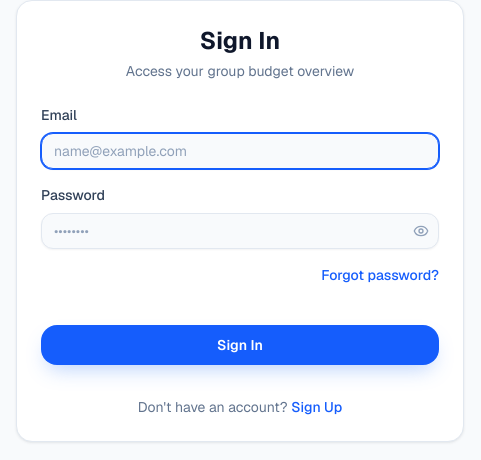
Scenario: LoginForm › keeps showing the signing-in state through a successful redirect instead of reverting to Sign In
In the field labelled "Email": (240, 151) [41, 133, 439, 169], type "demo@example.com"
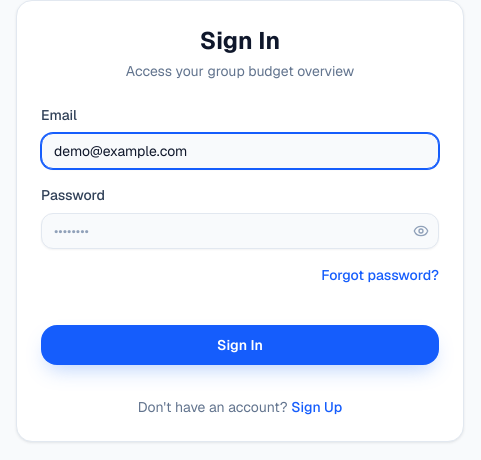
In the password field labelled "Password": (240, 231) [41, 213, 439, 249], type "hunter2"
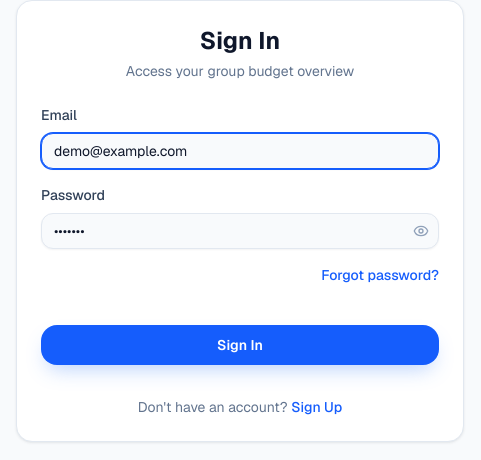
Click the button "Sign In": click(240, 345) [41, 325, 439, 365]
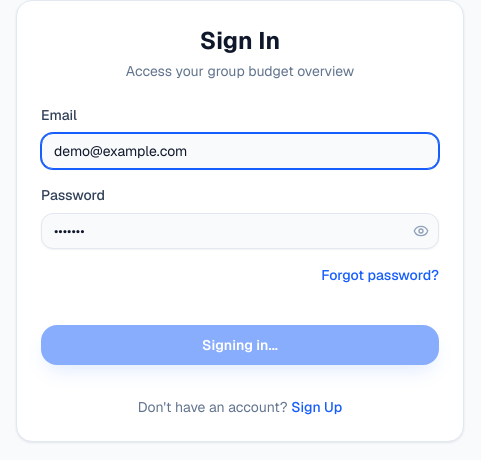
Now the button "Signing in..." is disabled, box [41, 325, 439, 365]
